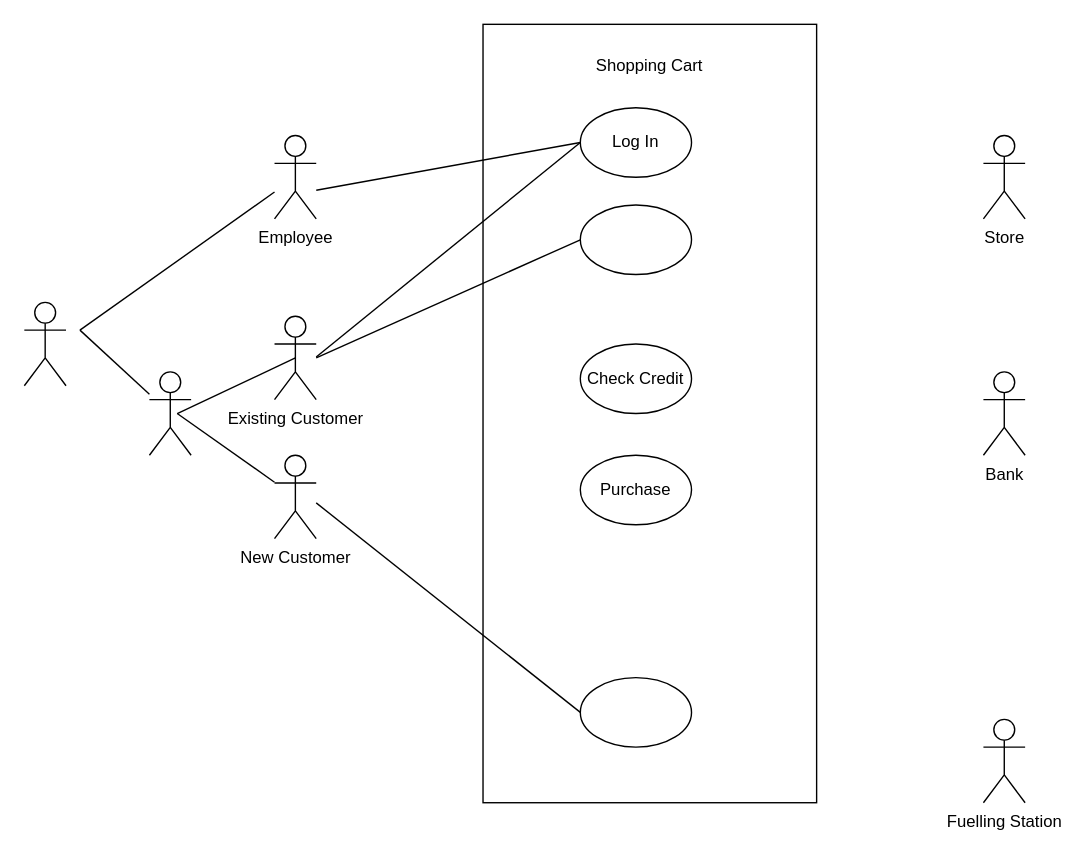
This 1086x856 diagram has some shape labels left out. Each missing label, with the centre of its shape:
"Create Account" goes at [635,711].
"Customer" goes at [169,412].
"Manage Cart" goes at [635,239].
"User" goes at [44,343].
